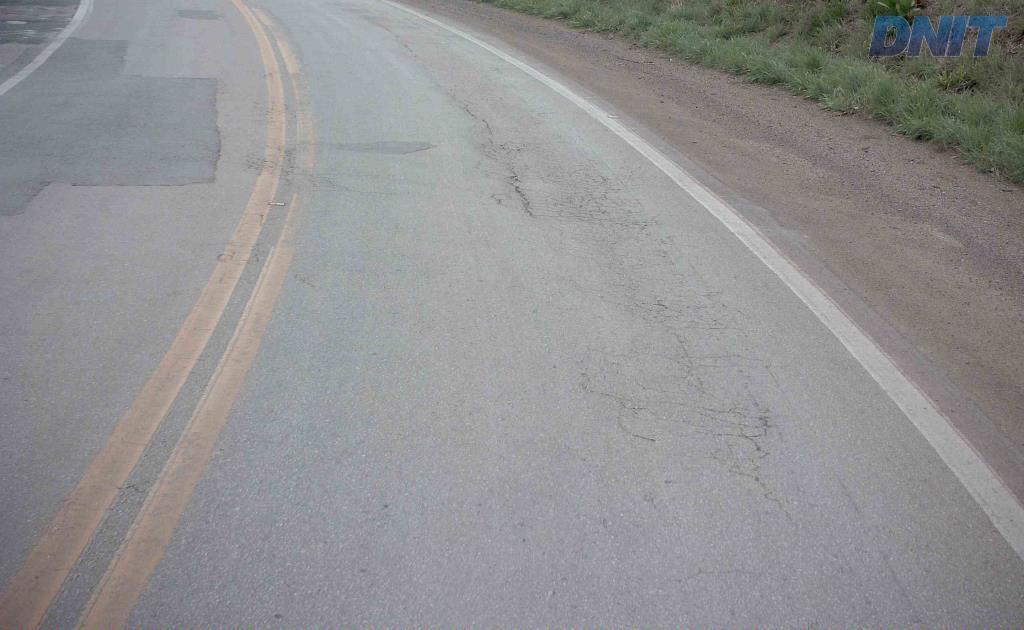crack: (737, 407, 778, 459)
